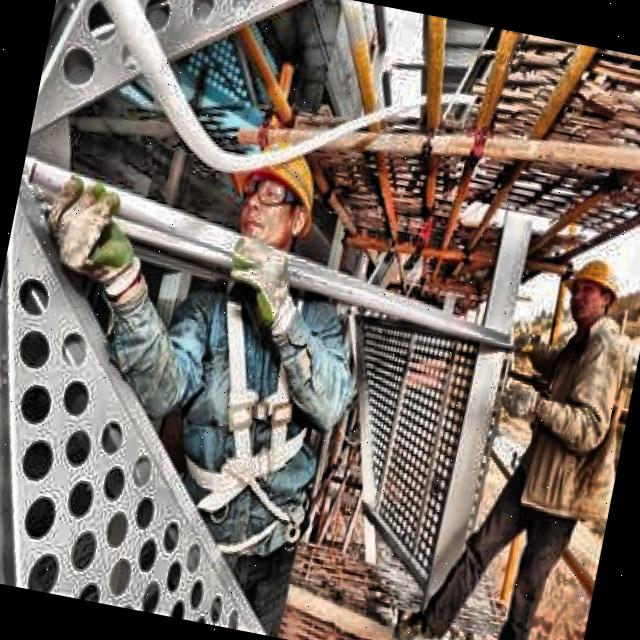helmet: (219, 124, 337, 264), (556, 244, 632, 337)
